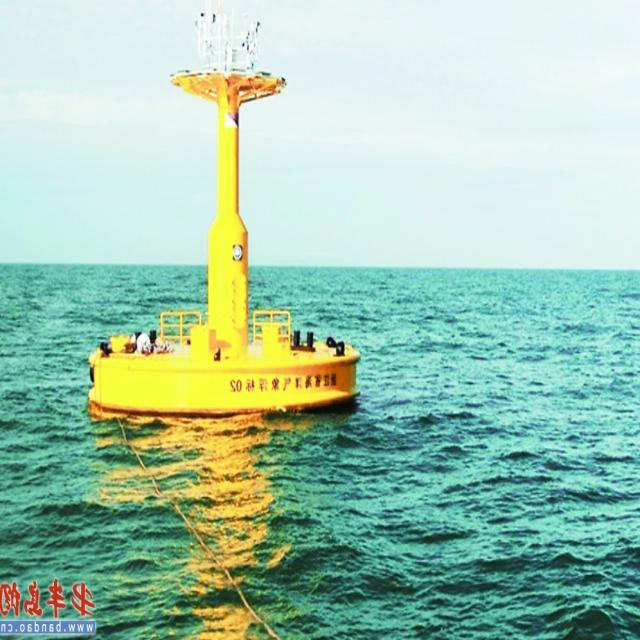buoy: (89, 0, 364, 416)
